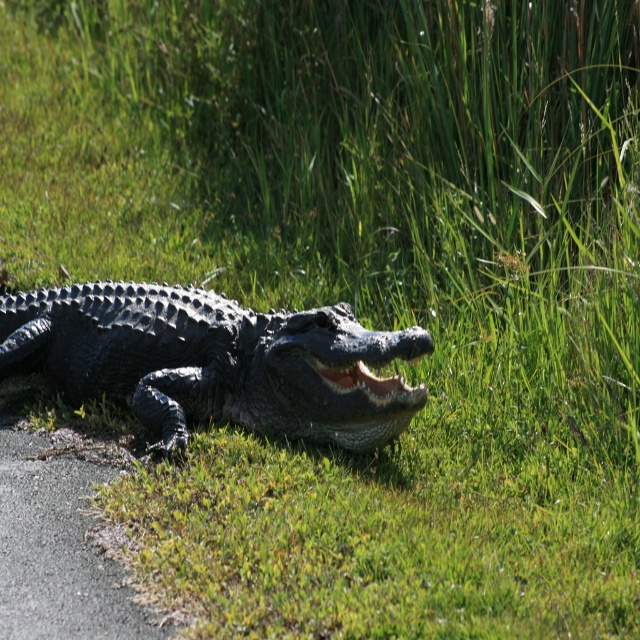Crocodile: (0, 283, 433, 462)
